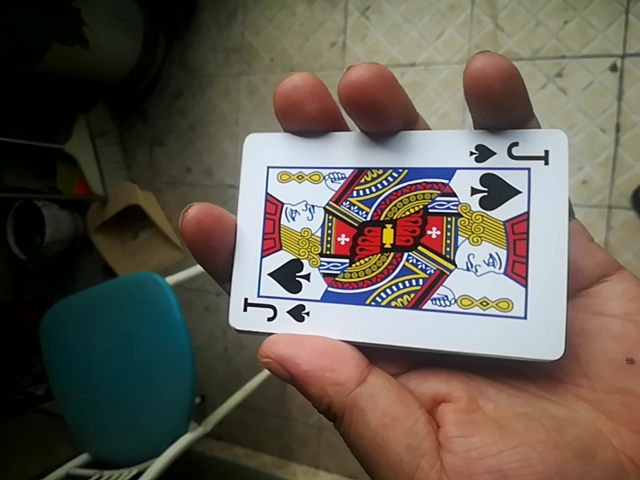ht j: (226, 119, 570, 362)
